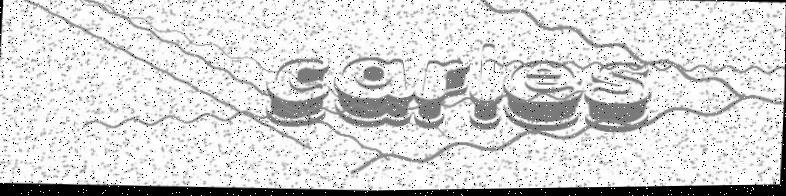a: (331, 54, 415, 130)
c: (263, 56, 330, 128)
e: (502, 58, 584, 134)
l: (468, 42, 505, 132)
r: (413, 57, 470, 131)
s: (583, 60, 652, 135)
